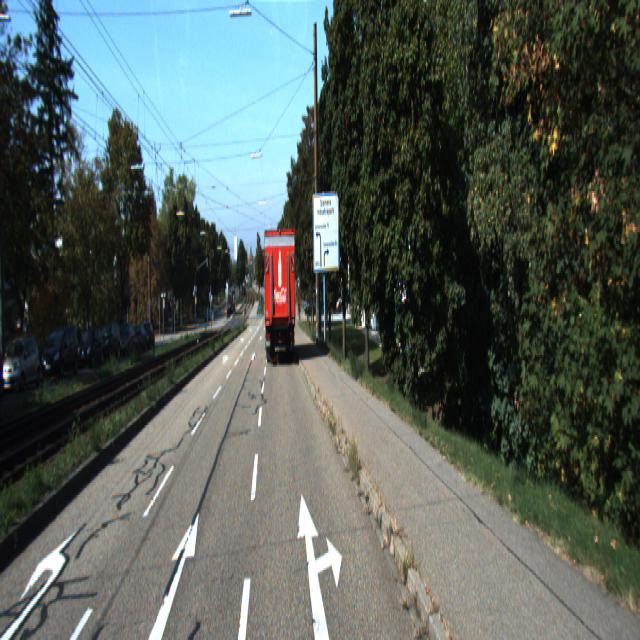Car: (265, 228, 300, 368), (1, 334, 43, 392), (43, 324, 84, 379), (76, 326, 105, 369), (95, 319, 121, 359), (115, 323, 136, 361)
